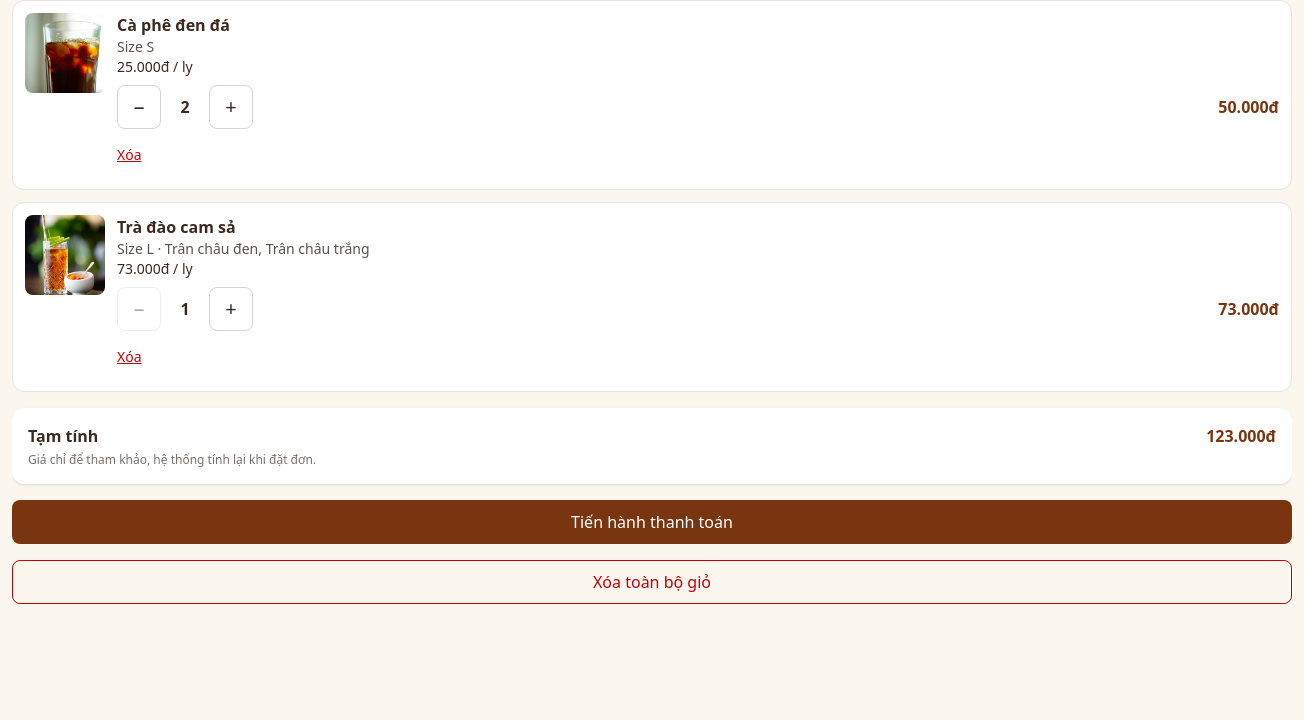
Scenario: Màn giỏ hàng (CT-38 – CT-41) › CT-41: xóa một dòng; xóa toàn bộ giỏ sau khi xác nhận
Click the button with aria-label "Xóa Cà phê đen đá size S".
click(129, 155)  # box [117,133,142,177]
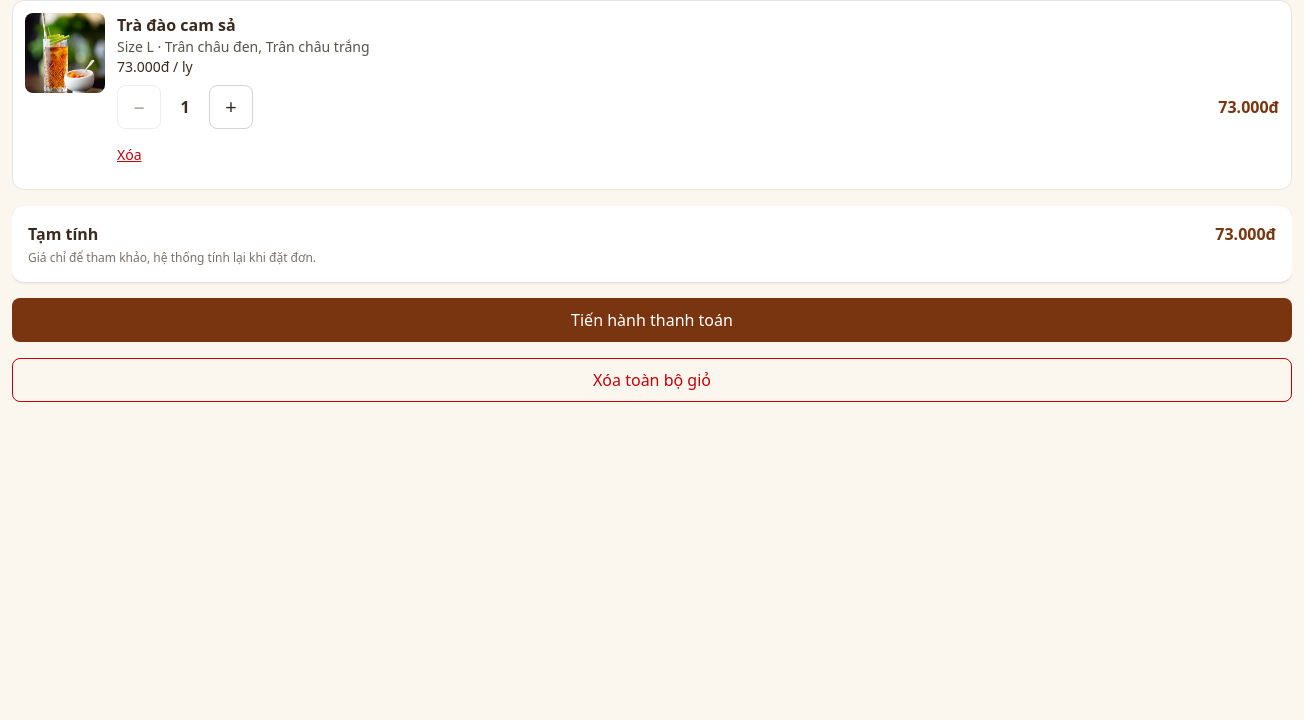
expect the 1st text "73.000đ" is shown: met, box [1218,95,1279,119]
expect the number of list items is 1: met, box [12,0,1292,190]
Click the button "Xóa toàn bộ giỏ".
click(652, 380)  # box [12,358,1292,402]
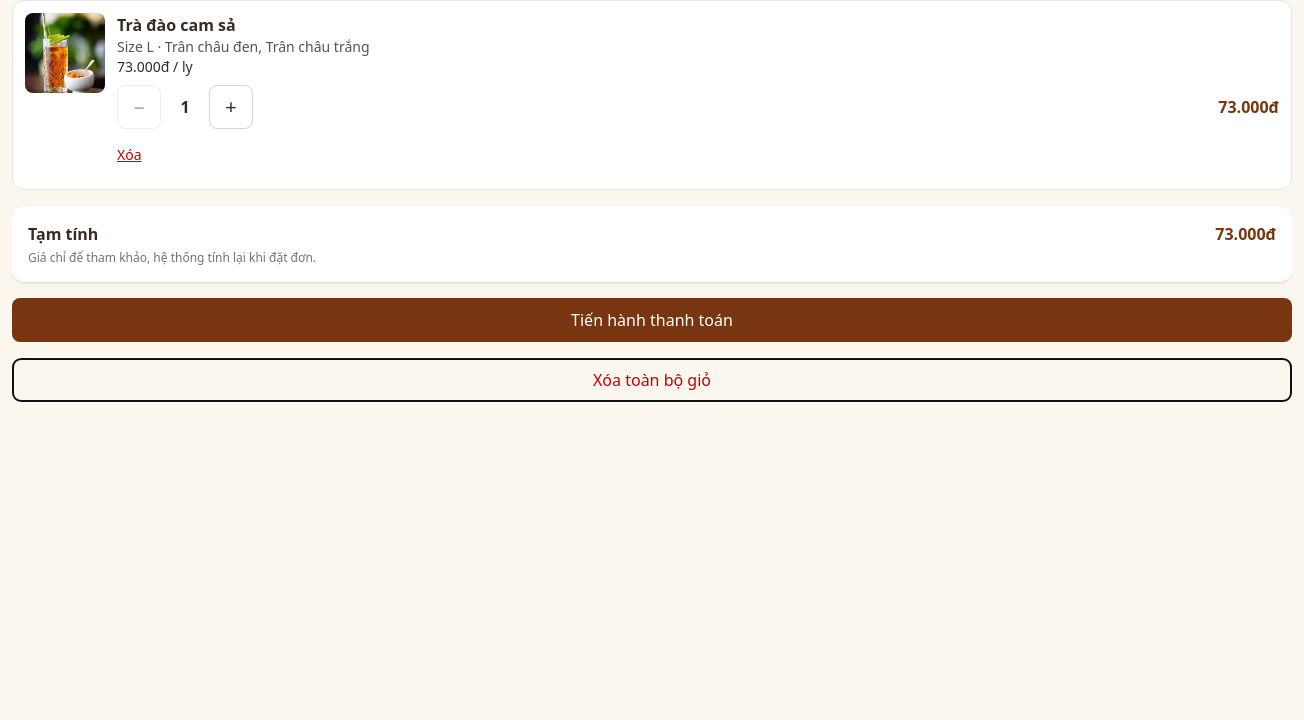
expect the number of list items is 1: met, box [12,0,1292,190]
Click the button "Xóa toàn bộ giỏ".
click(652, 380)  # box [12,358,1292,402]
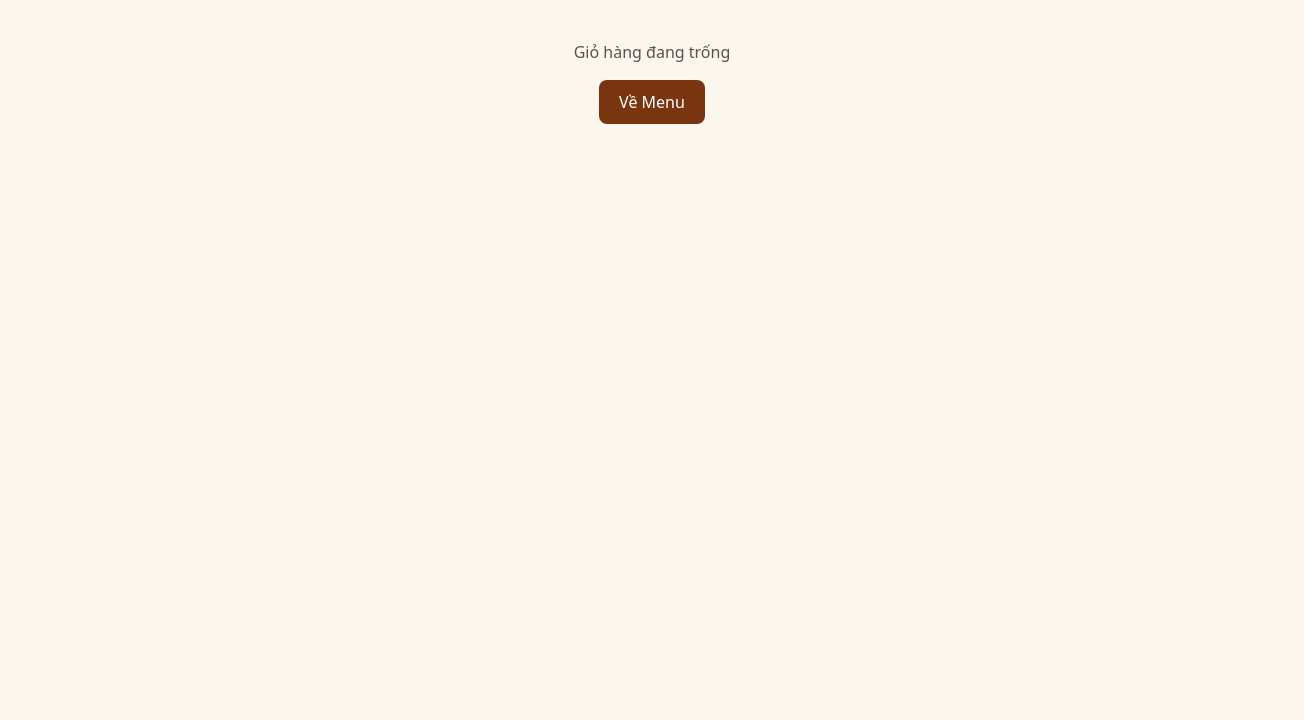
expect the text "Giỏ hàng đang trống" is shown: met, box [574,41,730,63]
